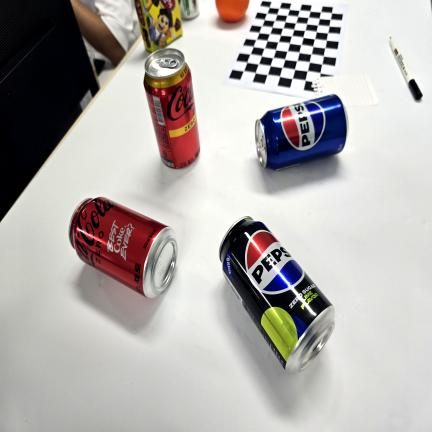can_coke_decaf: (144, 48, 200, 169)
can_coke_zero: (69, 197, 178, 298)
can_pepsi: (255, 94, 348, 170)
can_pepsi_zero: (220, 218, 334, 371)
